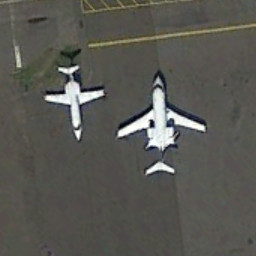Airplane: (113, 66, 214, 183), (25, 58, 115, 145)
